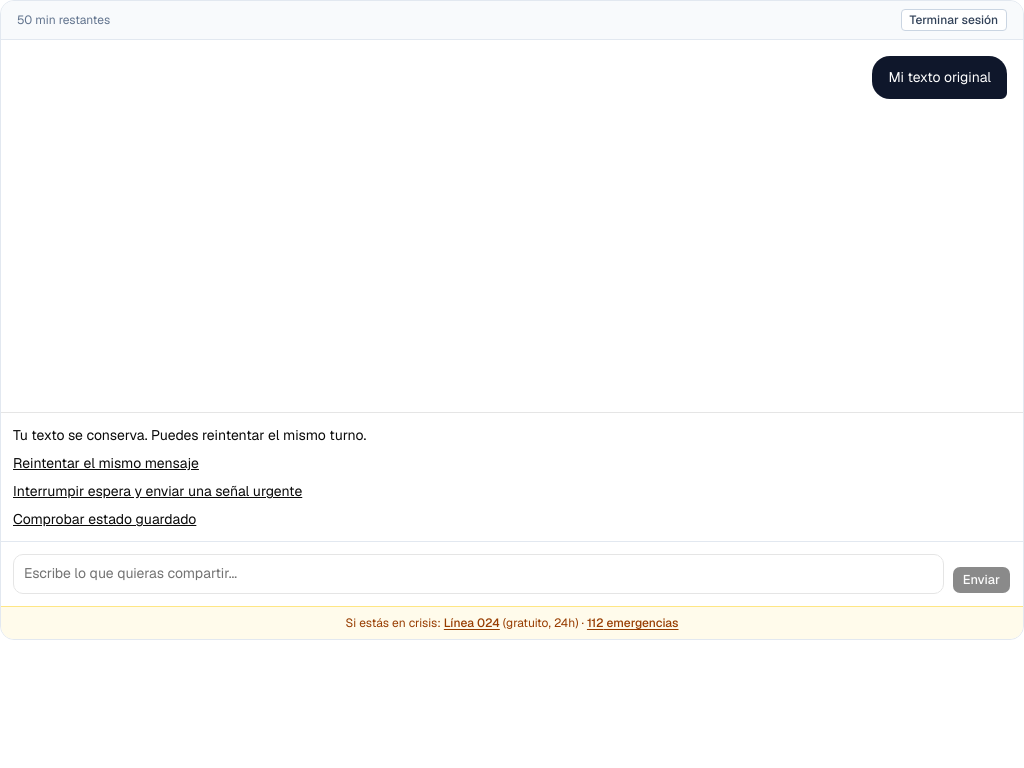
Test: external close after transport error rehydrates closed UI without retry
Click the button "Reintentar el mismo mensaje" at (106, 463), box [13,453,199,473]
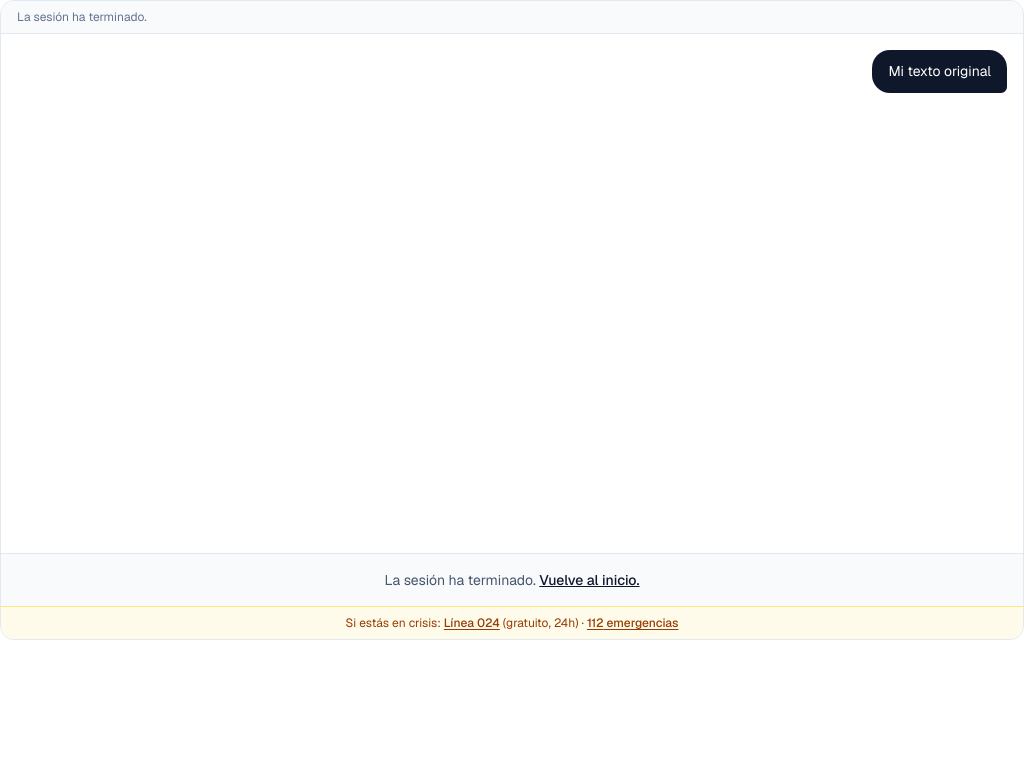
Check: the text "La sesión ha terminado." is shown, box [17,9,147,25]
Check: the button "Reintentar el mismo mensaje" is gone
